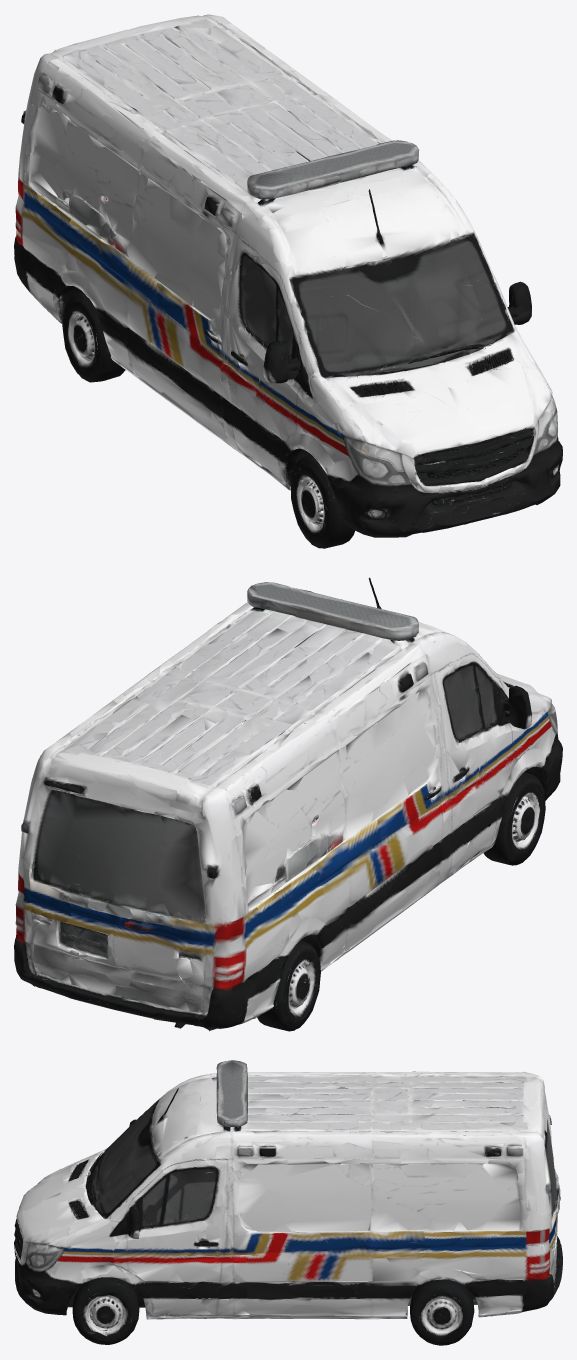
File: service-van.glb
3 renders of one model, top to bottom at view 1: azimuth 30°, elevation 25°; view 2: azimuth 150°, elevation 25°; view 3: azimuth 270°, elevation 25°, orthographic. The views are drawn at different scales.
Visible parts, largest first — view 1: service-van; view 2: service-van; view 3: service-van.
Part boxes in pixels (x1,y1,x2,y2): service-van: [14, 14, 562, 548]; service-van: [14, 577, 562, 1031]; service-van: [14, 1060, 562, 1345].
Size of the model in its own units: 2.24 by 2.38 by 5.4.
Materials: 1 (1 with a texture image).
